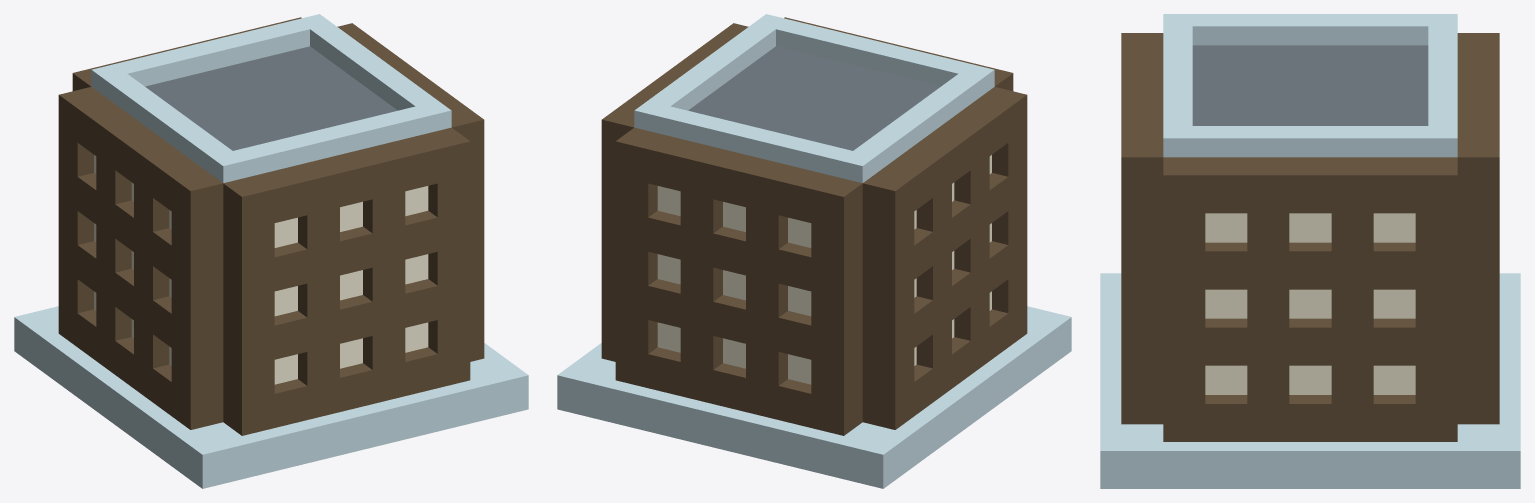
Rendered from Building_1_Base (Brown).obj.
3 views of the same model, side by side, from view 1: azimuth 30°, elevation 25°; view 2: azimuth 150°, elevation 25°; view 3: azimuth 270°, elevation 25° (orthographic). The views are drawn at different scales.
Parts seen in each view (by area): view 1: Building_1_Base_(Brown); view 2: Building_1_Base_(Brown); view 3: Building_1_Base_(Brown).
Part boxes in pixels (x1,y1,x2,y2): Building_1_Base_(Brown): (14,14,528,488); Building_1_Base_(Brown): (557,14,1071,488); Building_1_Base_(Brown): (1100,14,1520,488).
Size of the model in its own units: 2 by 1.7 by 2.
